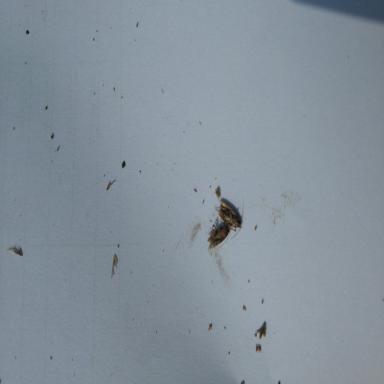pbw: (213, 205, 244, 239), (208, 219, 230, 250)
